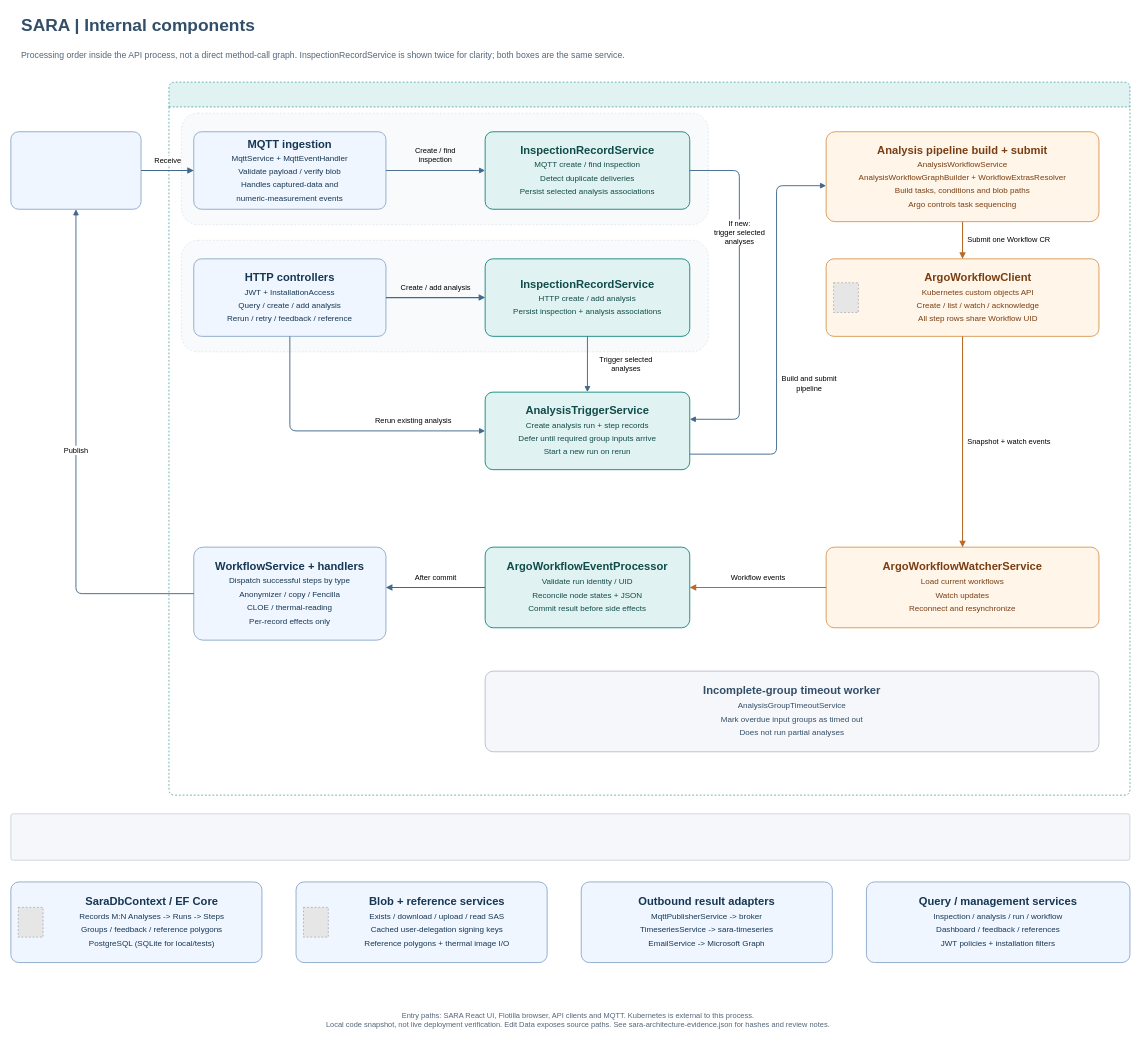
Image size: 1147x1047. Some labels were removed from this diagram. Grey dashed boxes stand in for pictures. Here are the shapes that lost their labels. From the top down, the box of each, then its label:
(10, 131, 141, 209): MQTT broker Inspection events in Availability events out
(181, 113, 708, 225): MQTT inspection path - ingestion coordinates the steps
(181, 240, 708, 352): HTTP create / add-analysis path
(168, 82, 1130, 795): ASP.NET CORE API PROCESS - Program.cs composition root
(10, 813, 1130, 860): SHARED DEPENDENCIES Used by multiple components; connections omitted.
